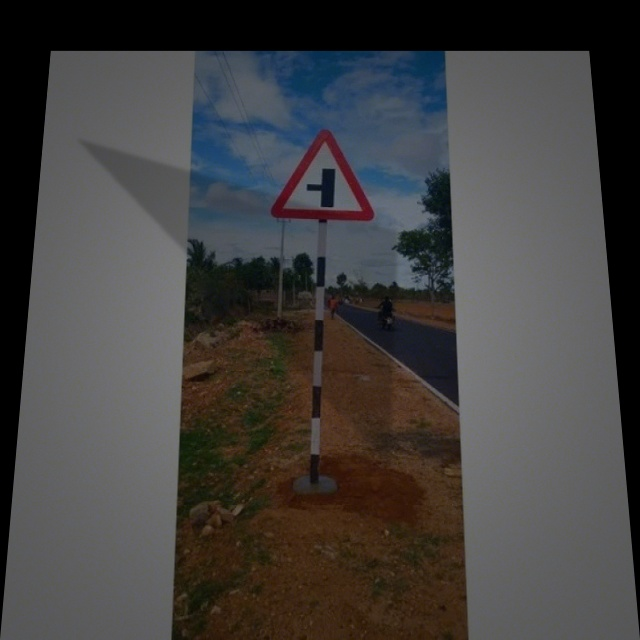Side_Road_Left: (267, 126, 377, 224)
